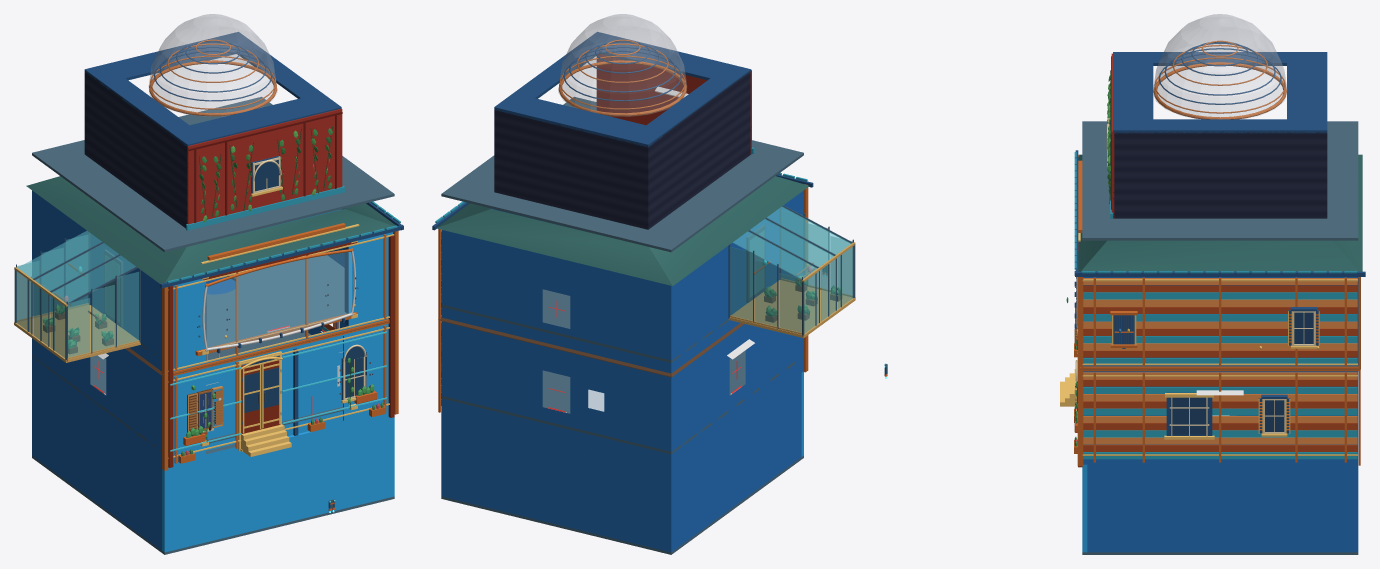
File: exterior-home-r1pmrGqY.glb
3 renders of one model, left to right at view 1: azimuth 30°, elevation 25°; view 2: azimuth 150°, elevation 25°; view 3: azimuth 270°, elevation 25°, orthographic. The views are drawn at different scales.
Parts seen in each view (by area): view 1: INT_Foundation_Front, WallLeft, INT_Foundation_Left, ObsDome, INT_Slab_Observatory, ObsFront, RoofMain, WallFront, CUTAWAY_UpperOpening_Glass, ObsLeft, INT_Slab_Kitchen, EXT_GroundFacade_Right (+44 smaller); view 2: WallBack, INT_Foundation_Back, WallLeft, ObsBack, RoofMain, INT_Foundation_Left, ObsDome, INT_Slab_Observatory, ObsLeft, ObsFront, EXT_ObservatoryRoof_Back, AVIARY_Left_Floor (+24 smaller); view 3: INT_Foundation_Right, ObsRight, INT_Slab_Observatory, ObsDome, RoofMain, WallRight, EXT_ObservatoryRoof_Back, EXT_ObservatoryRoof_Front, EXT_Right_Upper_Board_9, EXT_Right_Lower_Board_10, EXT_Right_Upper_Board_1, EXT_Right_Upper_Board_8 (+34 smaller).
Part boxes in pixels (box(x1,y1,x2,y2)): INT_Foundation_Front: box(162, 413, 394, 552); WallLeft: box(32, 190, 161, 465); INT_Foundation_Left: box(34, 373, 161, 550); ObsDome: box(148, 14, 277, 116); INT_Slab_Observatory: box(32, 96, 394, 252); ObsFront: box(187, 108, 342, 224); RoofMain: box(26, 176, 395, 283); WallFront: box(173, 232, 392, 465); CUTAWAY_UpperOpening_Glass: box(207, 252, 351, 347); ObsLeft: box(84, 71, 187, 228); INT_Slab_Kitchen: box(35, 255, 346, 359); EXT_GroundFacade_Right: box(277, 336, 343, 436); WallBack: box(441, 229, 671, 467); INT_Foundation_Back: box(441, 412, 673, 552); WallLeft: box(671, 191, 803, 467); ObsBack: box(494, 110, 648, 229); RoofMain: box(436, 176, 809, 285); INT_Foundation_Left: box(673, 373, 801, 550); ObsDome: box(558, 14, 686, 116); INT_Slab_Observatory: box(441, 96, 803, 252); ObsLeft: box(648, 71, 751, 229); ObsFront: box(596, 54, 751, 153); EXT_ObservatoryRoof_Back: box(494, 93, 667, 147); AVIARY_Left_Floor: box(728, 280, 855, 338); INT_Foundation_Right: box(1087, 464, 1352, 552); ObsRight: box(1113, 131, 1327, 218); INT_Slab_Observatory: box(1082, 121, 1358, 240); ObsDome: box(1153, 14, 1287, 119); RoofMain: box(1078, 154, 1362, 271); WallRight: box(1083, 277, 1358, 464); EXT_ObservatoryRoof_Back: box(1287, 52, 1327, 133); EXT_ObservatoryRoof_Front: box(1113, 52, 1153, 133); EXT_Right_Upper_Board_9: box(1083, 292, 1357, 299); EXT_Right_Lower_Board_10: box(1083, 379, 1357, 386); EXT_Right_Upper_Board_1: box(1083, 350, 1357, 357); EXT_Right_Upper_Board_8: box(1083, 299, 1357, 306).
Size of the model in its own units: 25.8 by 35.89 by 32.78.
